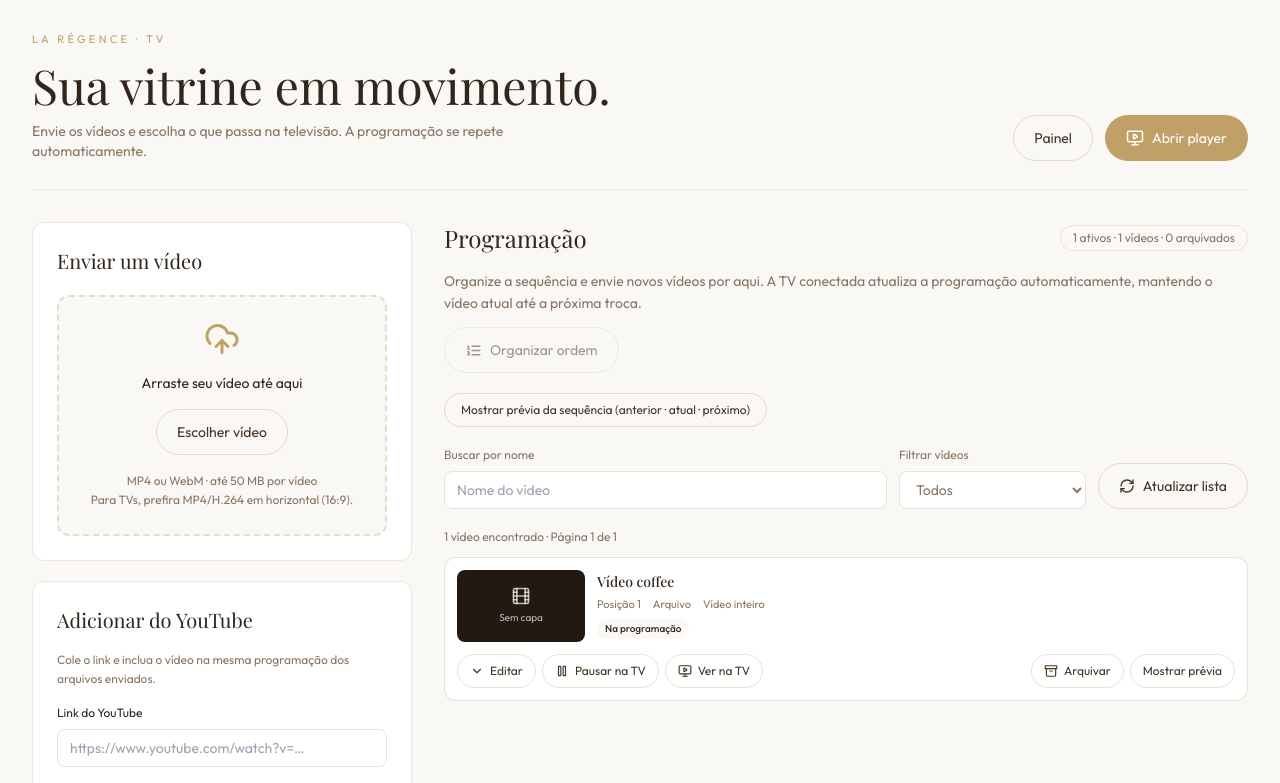
rejects an invalid per-video limit of 1.5 seconds
Click the button "Editar" at (496,671), box [457,654,536,688]
(page scrolled)
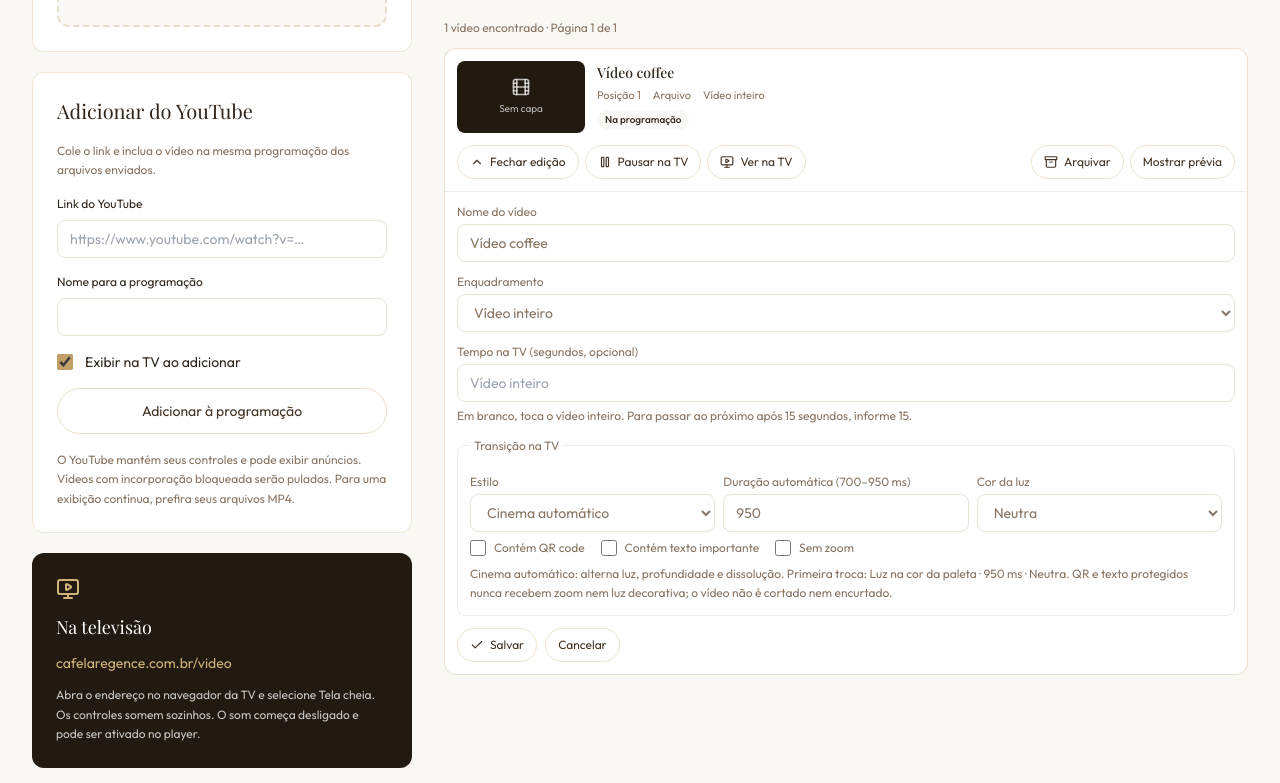
Type "1.5" into the number field labelled "Tempo na TV (segundos, opcional)" at (846,383), box [457,364,1235,402]
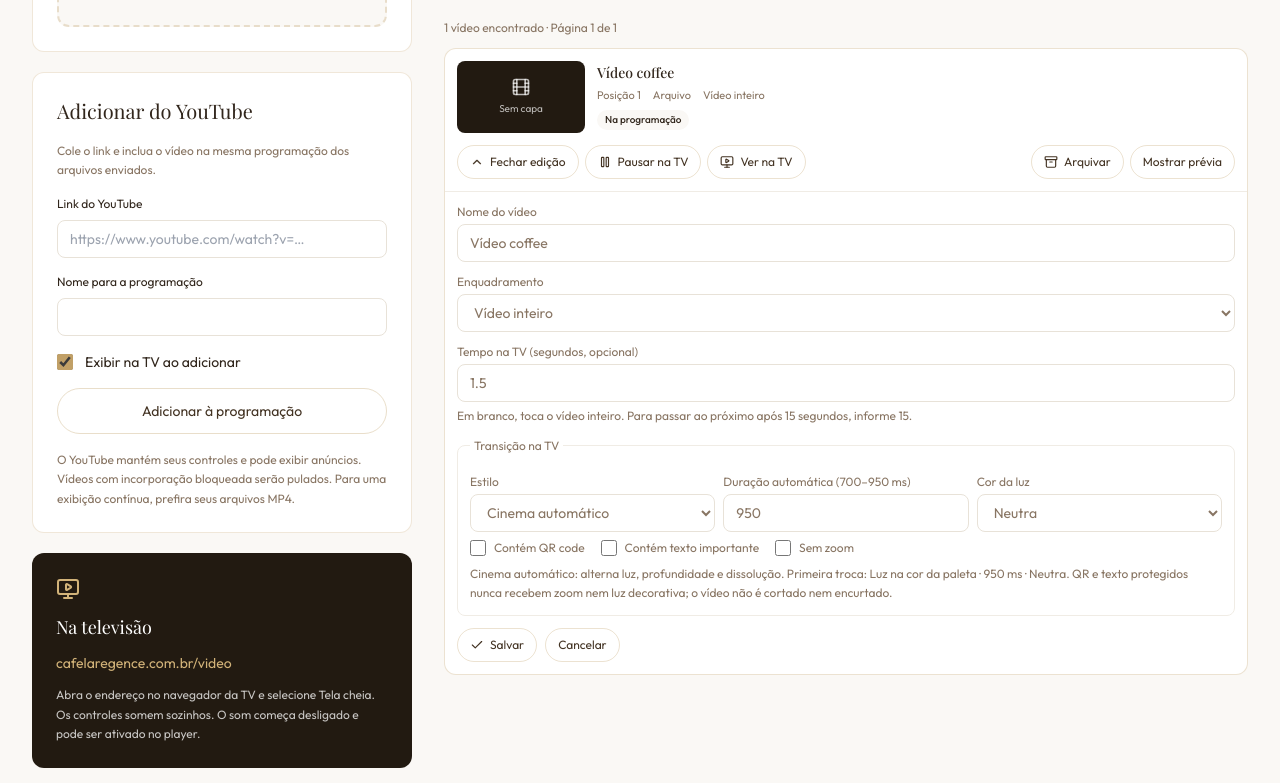
Click the button "Salvar" at (497,645), box [457,628,537,662]
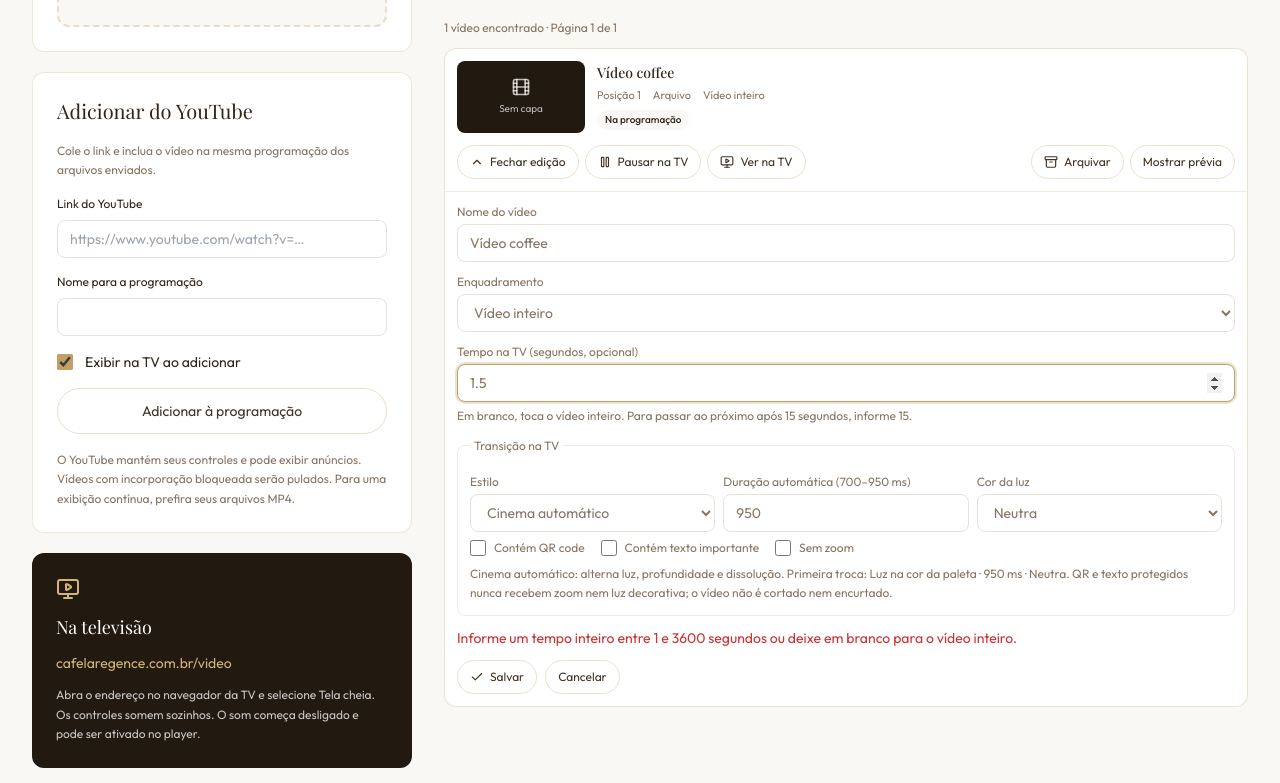
Result: the 2nd message shows "entre 1 e 3600 segundos" at [457,629,1017,647]
